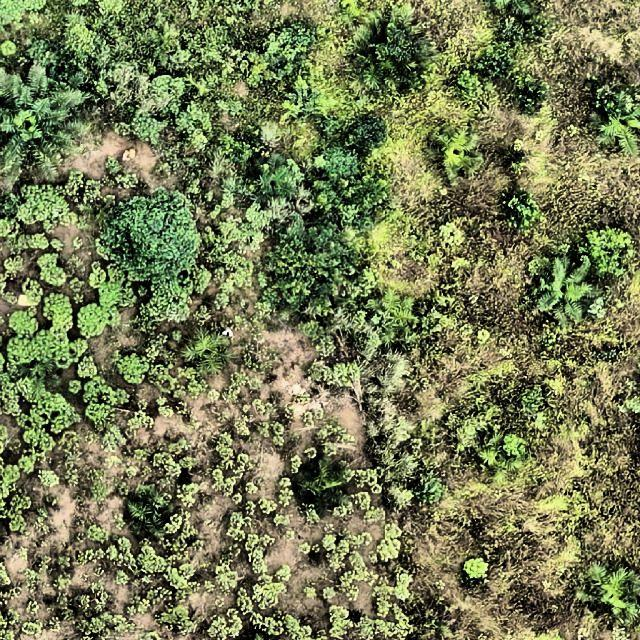Kelapa_Sawit: (0, 63, 86, 178), (538, 262, 602, 326), (431, 124, 484, 178), (295, 461, 348, 514), (279, 80, 331, 128), (125, 488, 174, 536)
